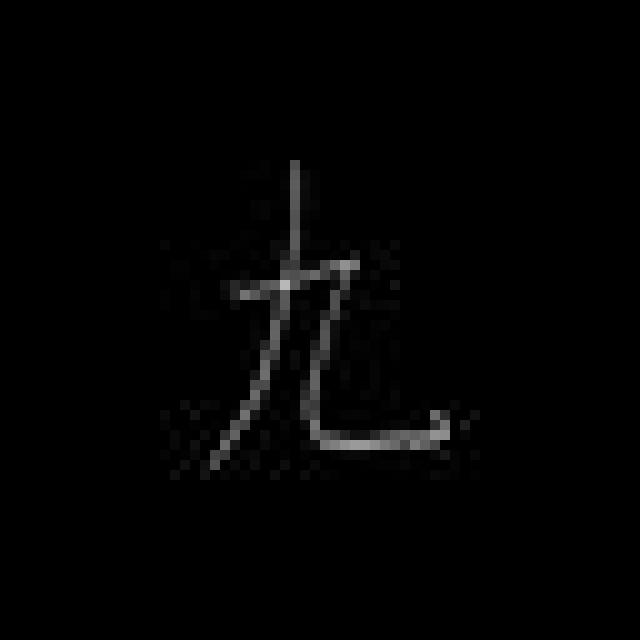9 -nine-: (198, 165, 464, 468)
